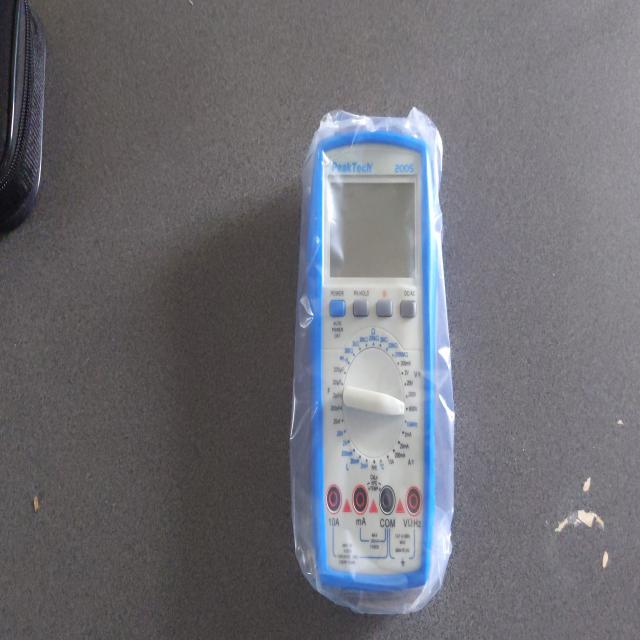Digital Multimeter: (303, 109, 445, 604)
